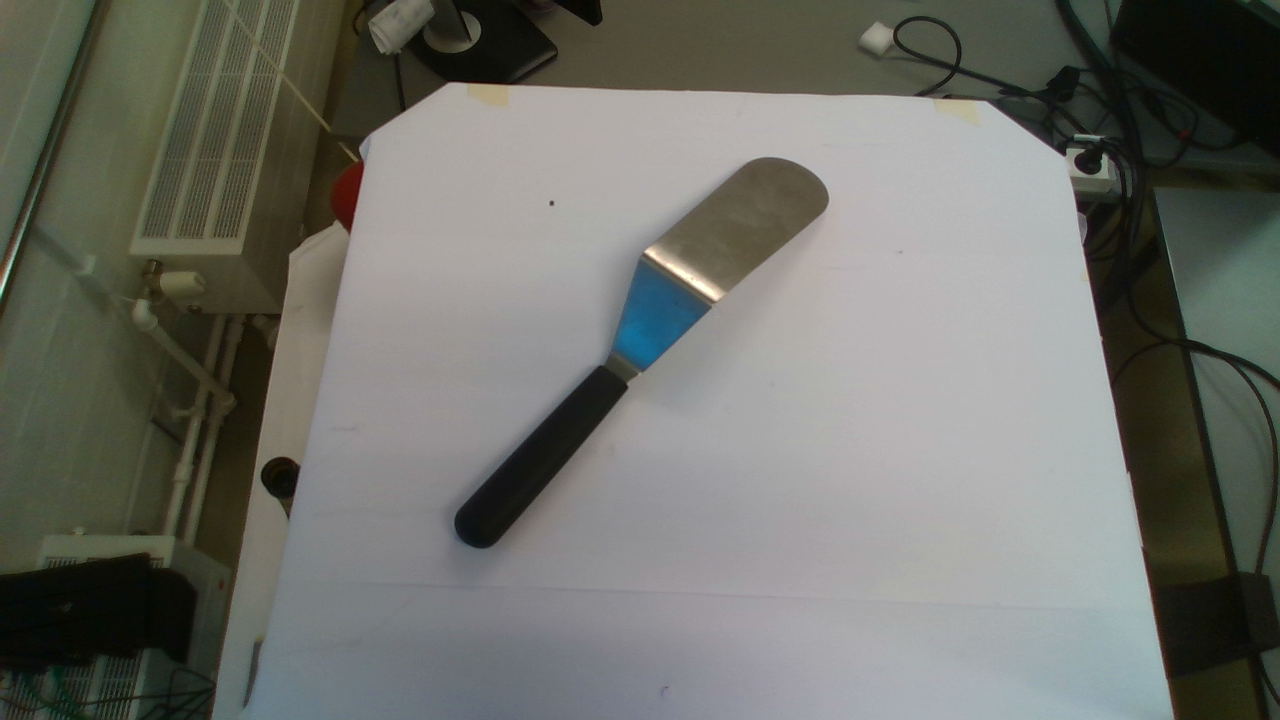spatula: (448, 154, 832, 551)
